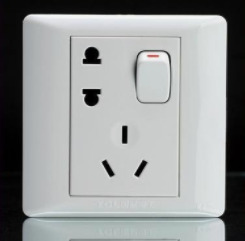switch: (131, 46, 171, 103)
